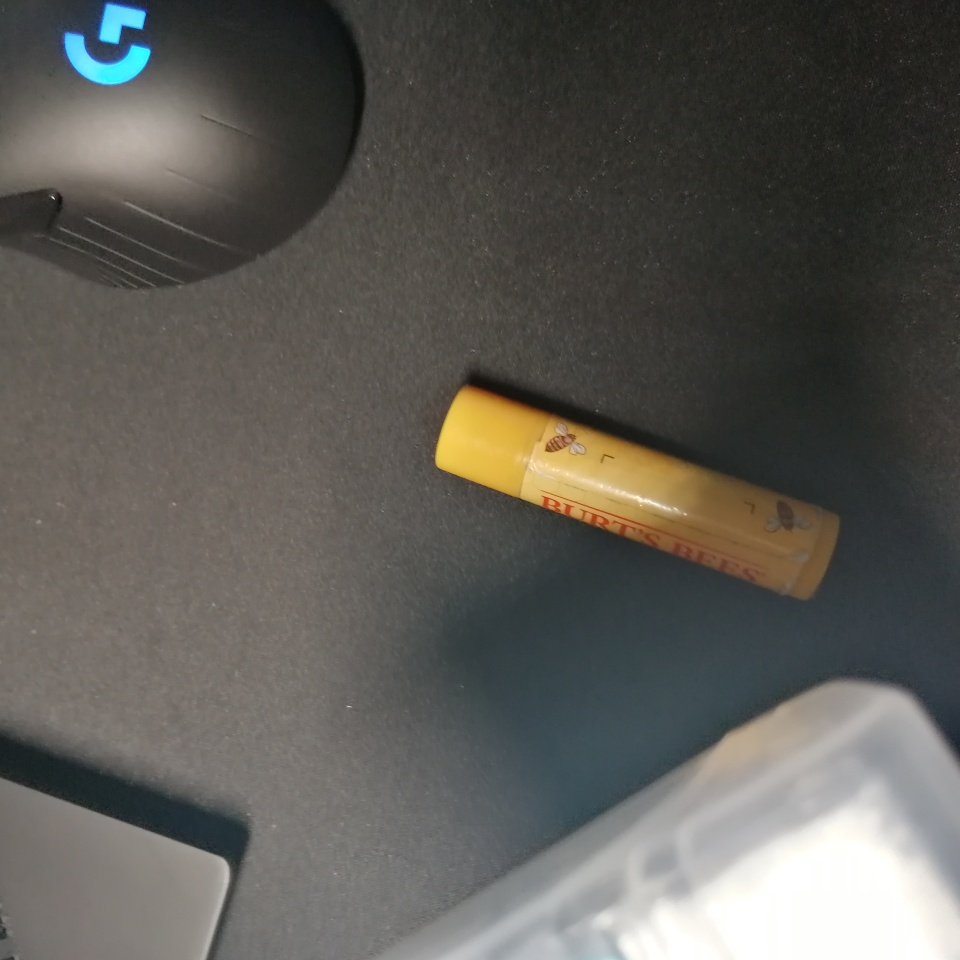chapstick: (433, 383, 841, 602)
